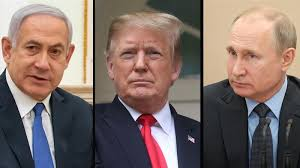middle_eastern_male: (9, 5, 76, 97)
